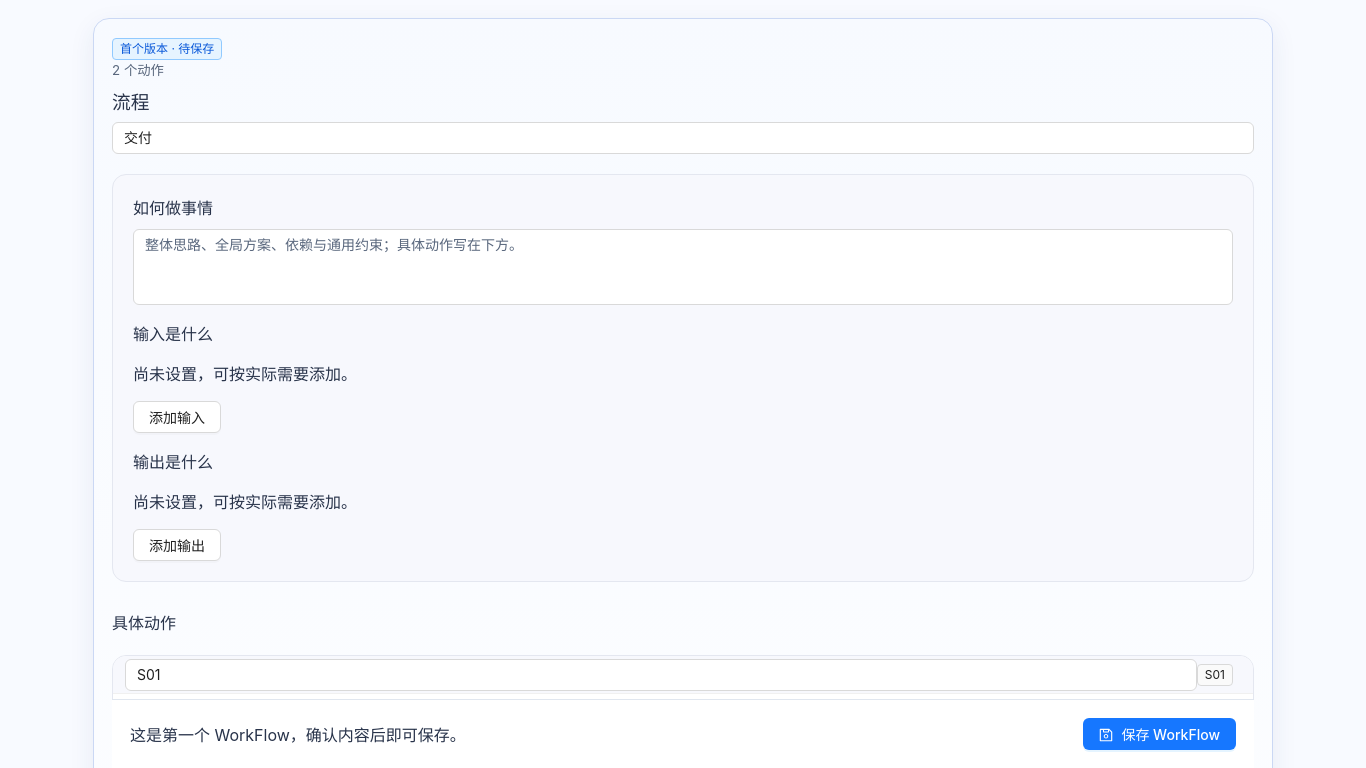
it: 全局约定可编辑，输入输出结构化保存，删除后编号不复用
Type "先确认依赖" into the text box named "如何做事情" at (683, 267), box [133, 229, 1233, 305]
Click the button "添加输入" at (177, 417), box [133, 401, 221, 433]
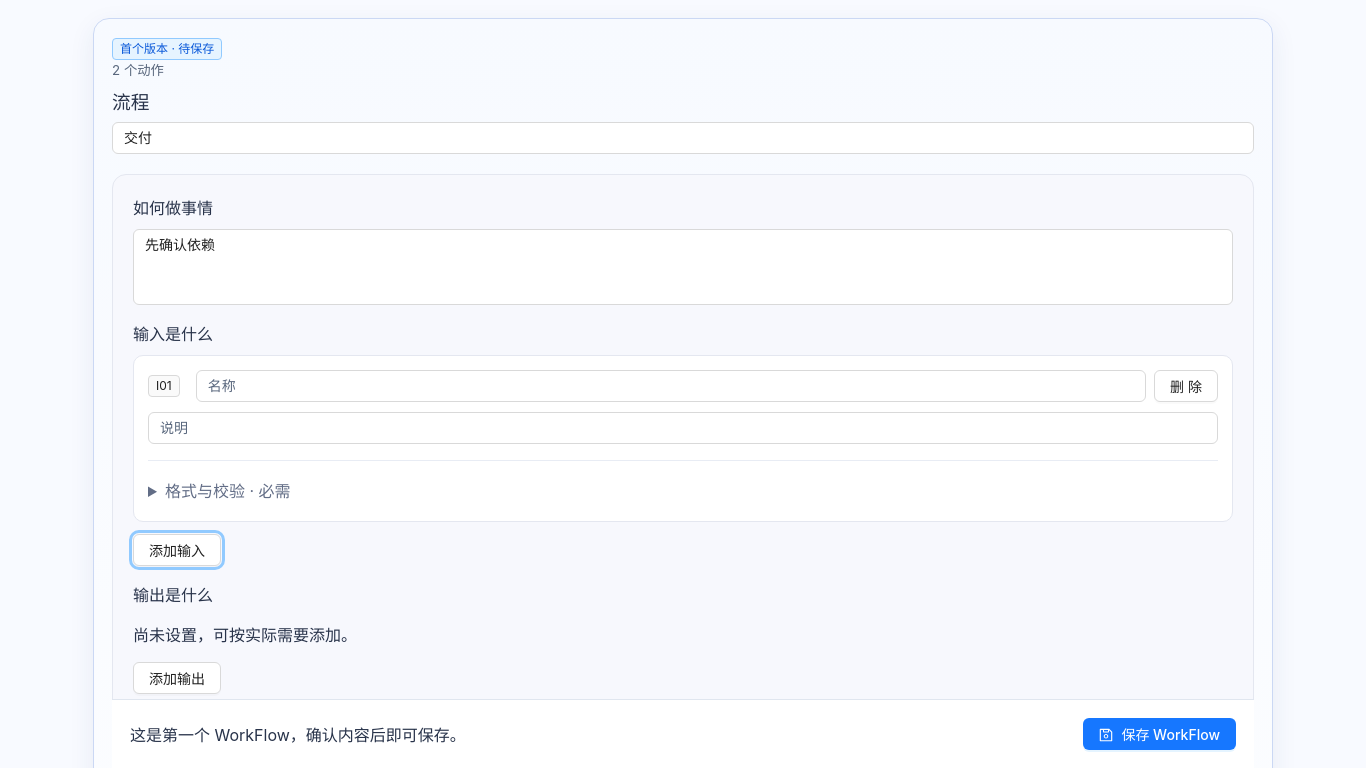
Type "原始数据" into the field named "输入是什么1名称" at (671, 386), box [196, 370, 1146, 402]
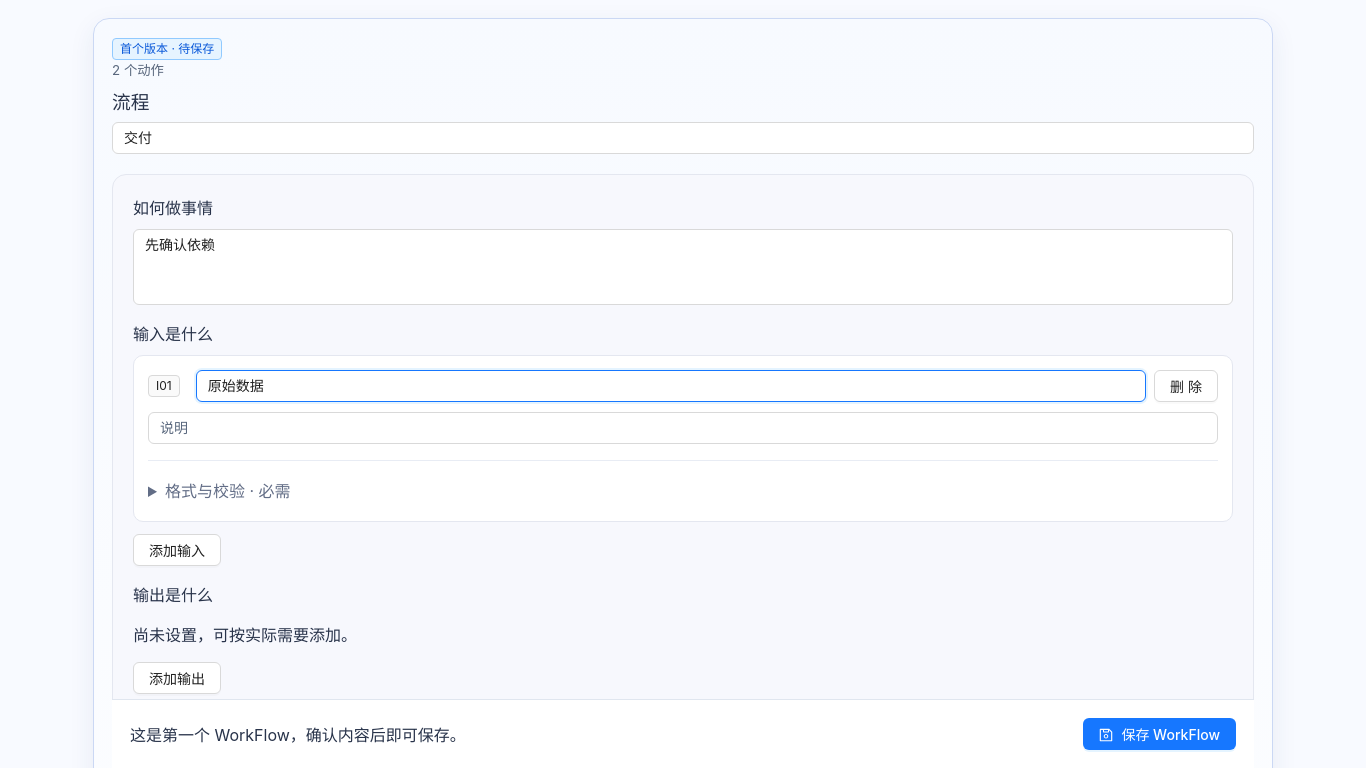
Click the button "添加输出" at (177, 678), box [133, 662, 221, 694]
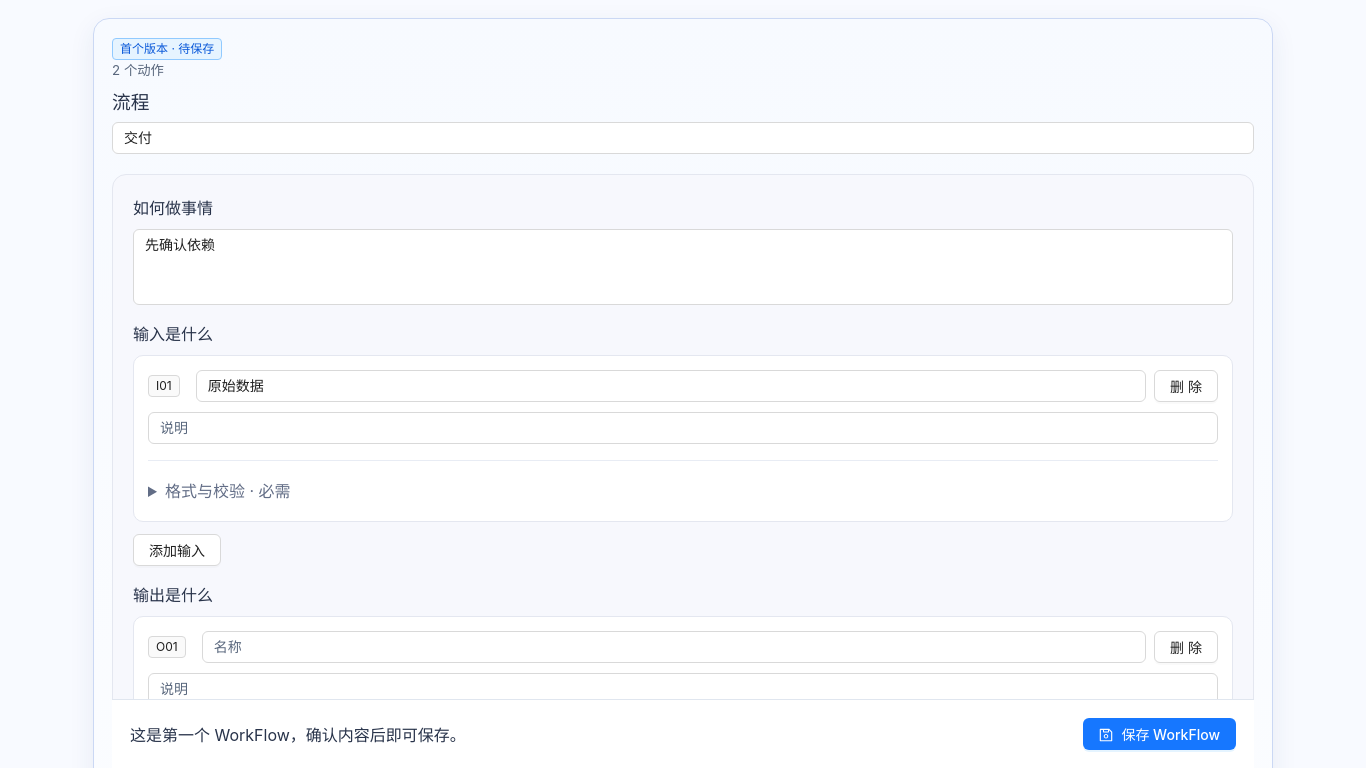
Type "报告" into the field named "输出是什么1名称" at (674, 647), box [202, 631, 1146, 663]
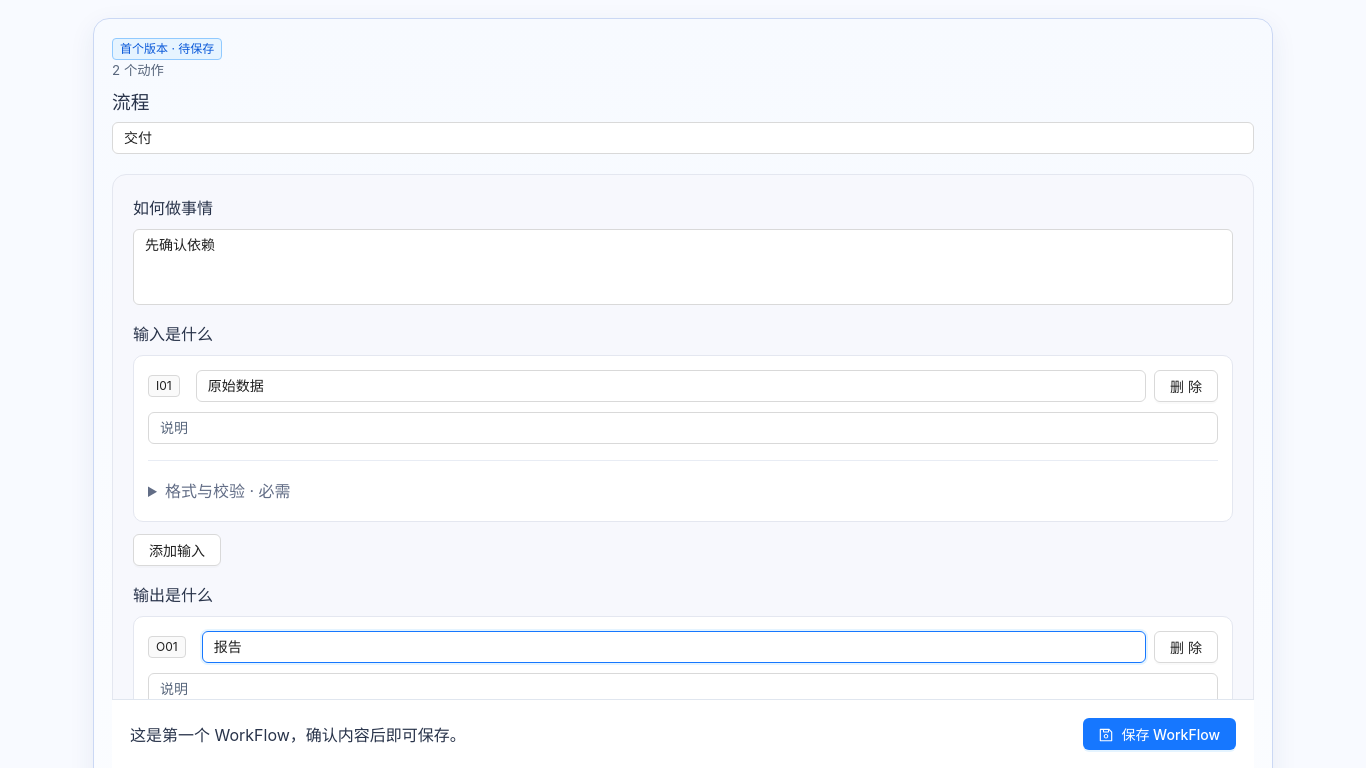
Click the button named "删除I01" at (1186, 386), box [1154, 370, 1218, 402]
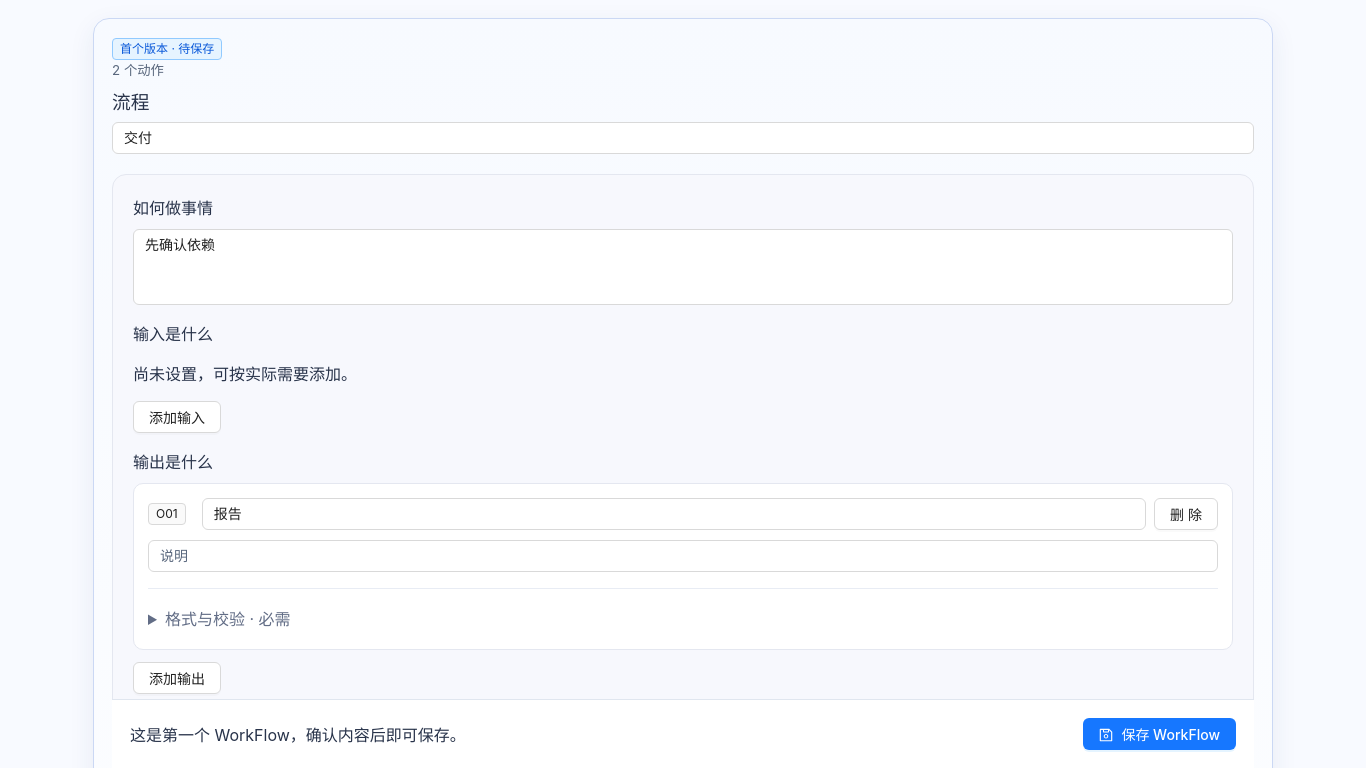
Click the button "添加输入" at (177, 417), box [133, 401, 221, 433]
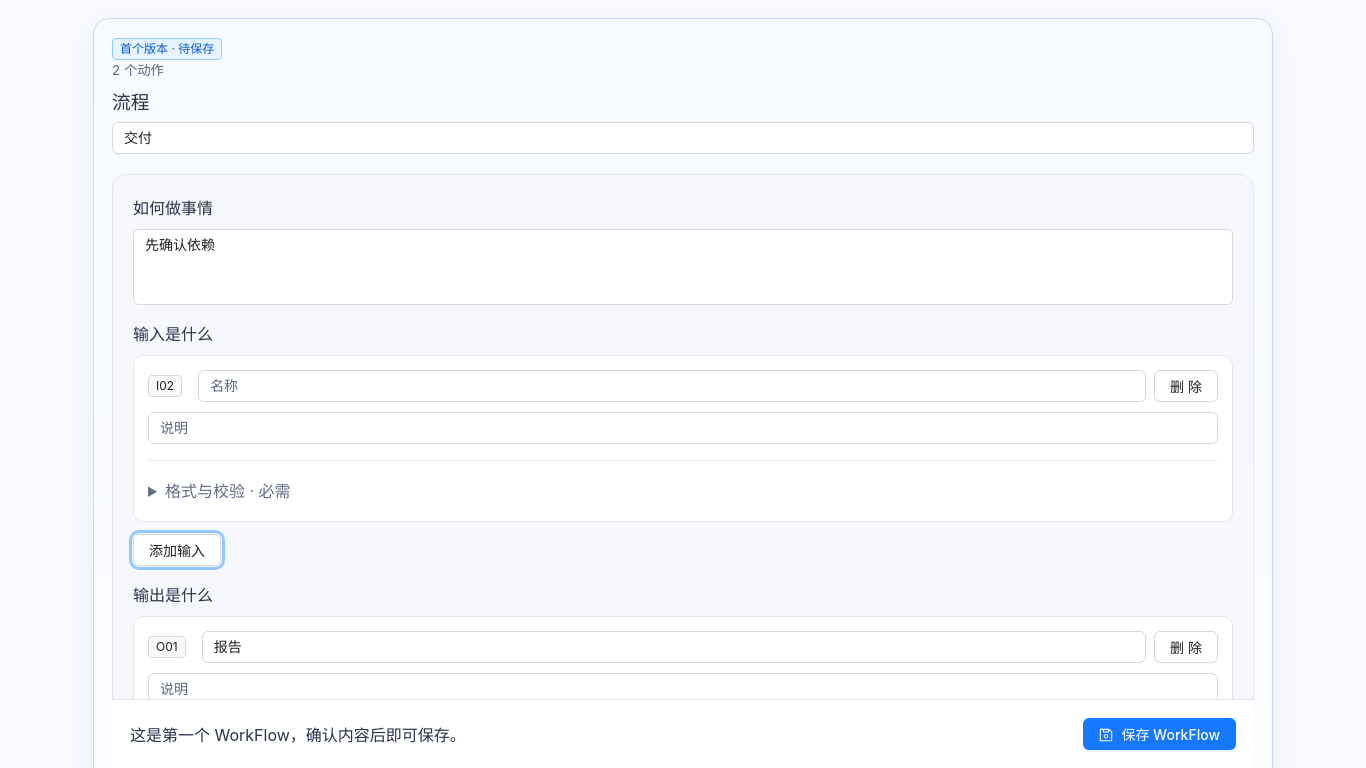
expect the text "I02" is shown: met, box [148, 375, 182, 397]
